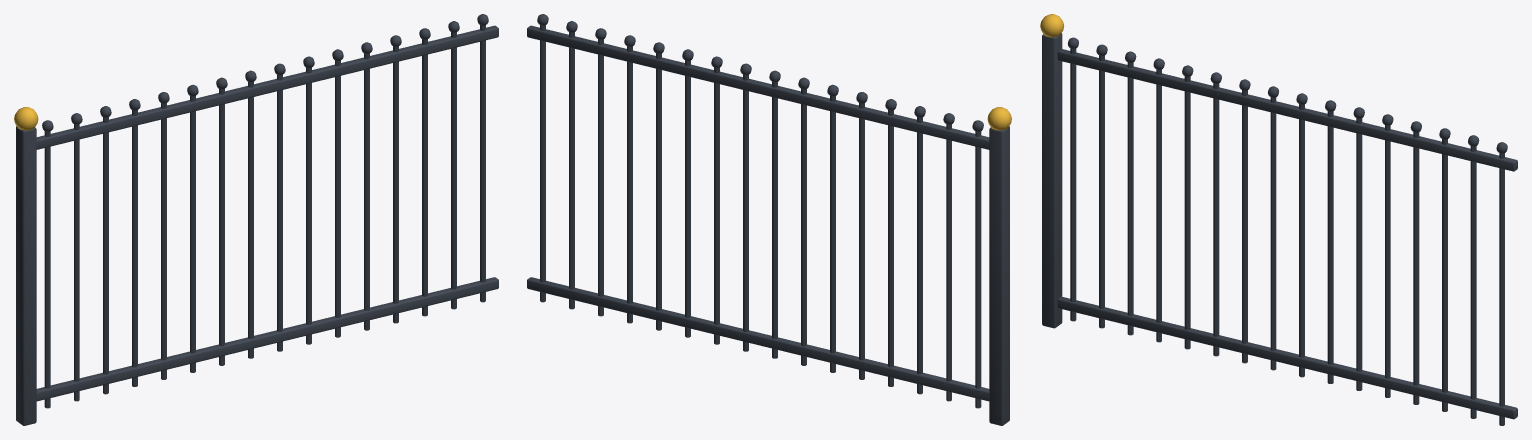
The model's file is cerca_metal_2m.glb.
The picture shows the model from 3 angles, left to right: view 1: azimuth 30°, elevation 25°; view 2: azimuth 150°, elevation 25°; view 3: azimuth 330°, elevation 25°; orthographic projection.
Parts seen in each view (by area): view 1: cerca_metal_2m; view 2: cerca_metal_2m; view 3: cerca_metal_2m.
Part boxes in pixels (box(x1,y1,x2,y2)): cerca_metal_2m: box(14, 14, 498, 425); cerca_metal_2m: box(527, 14, 1011, 425); cerca_metal_2m: box(1040, 14, 1517, 425).
Size of the model in its own units: 2.05 by 1.27 by 0.09.
1 material, 1 textured.
